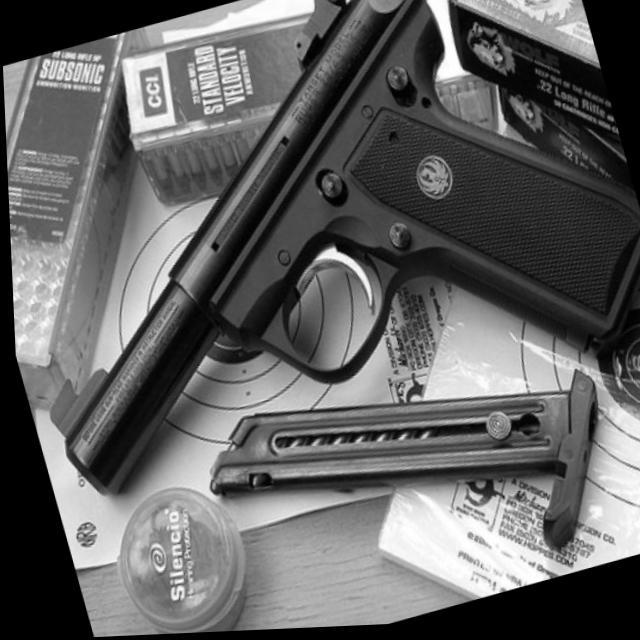weapon: (0, 0, 640, 511), (183, 321, 634, 634)
